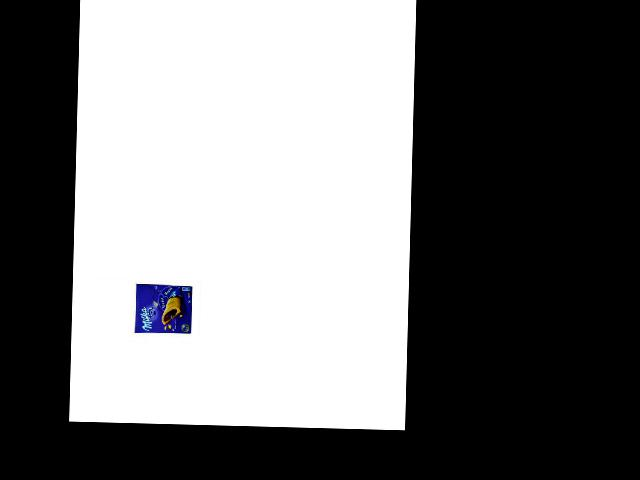chocolate: (131, 281, 196, 337)
